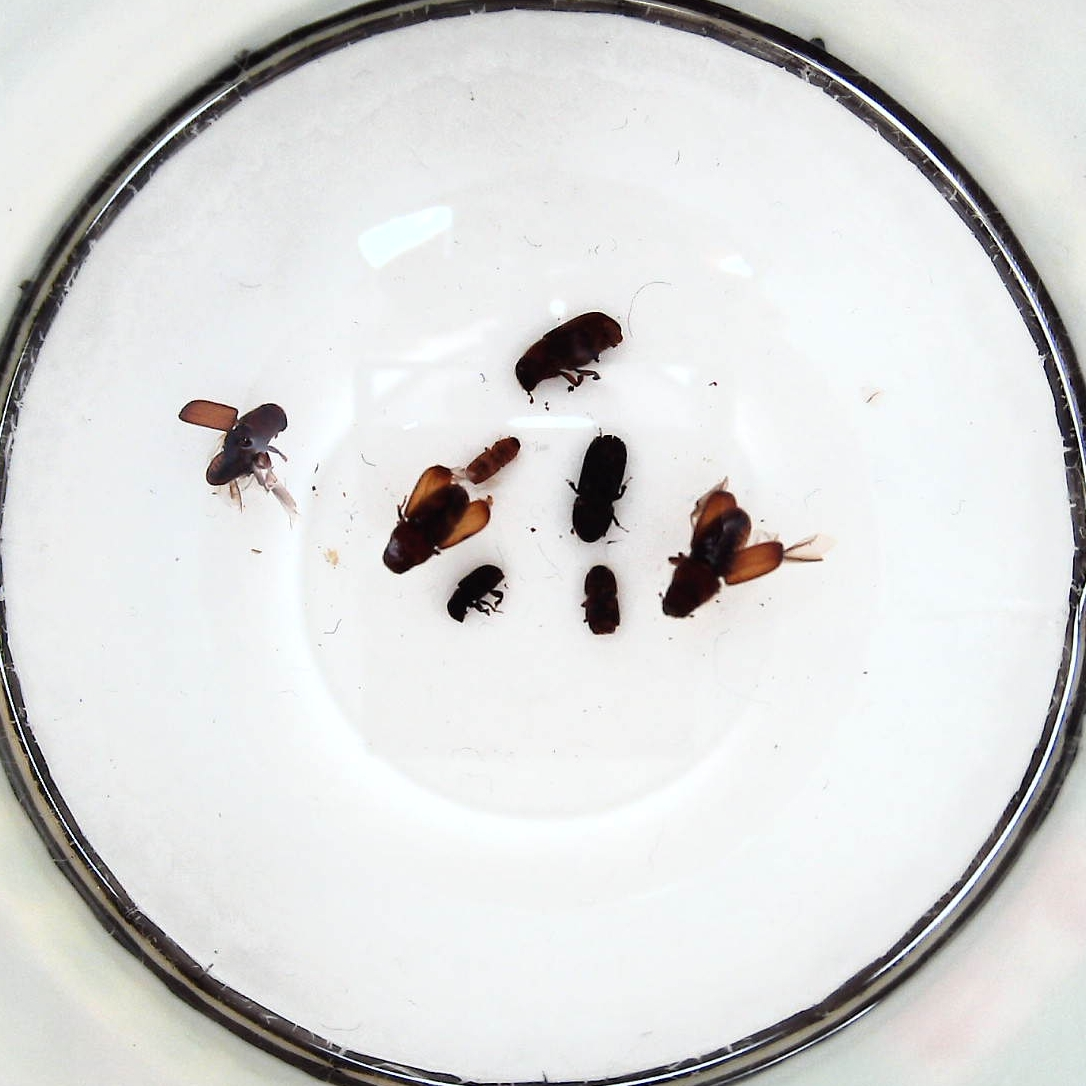Boerner: (565, 426, 633, 544)
Leconte: (661, 473, 821, 621), (178, 397, 296, 515), (383, 464, 491, 572), (512, 309, 624, 399)
Linnaeus: (581, 564, 620, 637)
acuminatus: (465, 435, 526, 486)
armandi: (446, 562, 510, 621)
